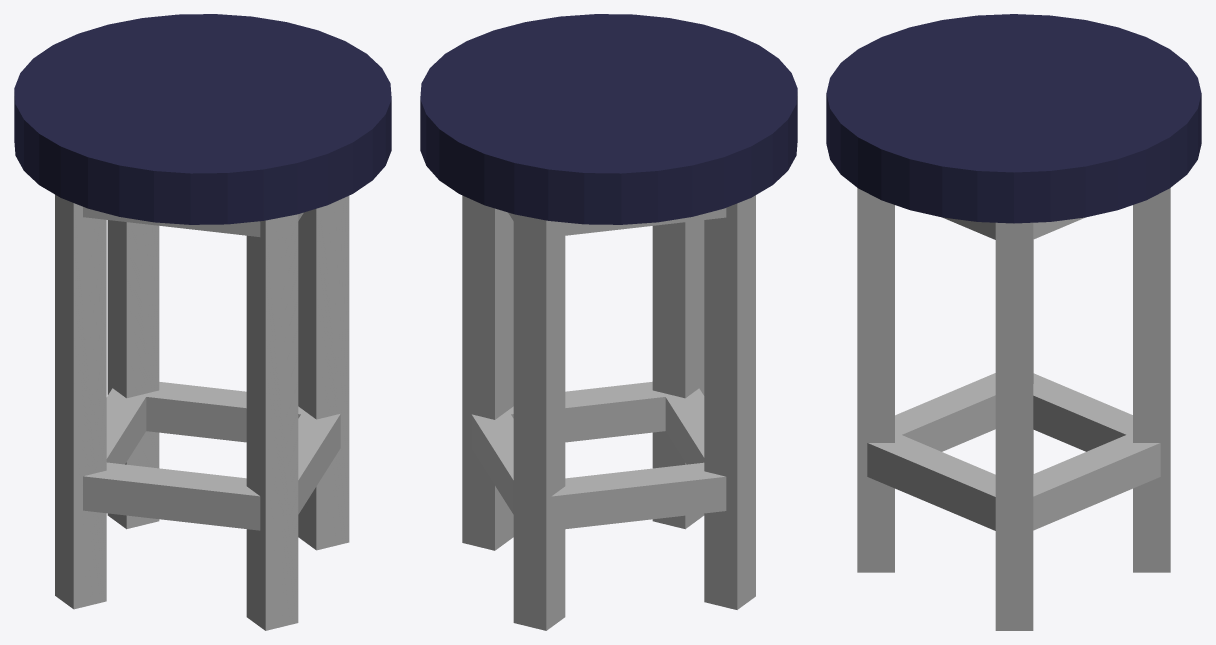
File: chair.fbx
3 renders of one model, left to right at view 1: azimuth 30°, elevation 25°; view 2: azimuth 150°, elevation 25°; view 3: azimuth 270°, elevation 25°, orthographic.
Parts seen in each view (by area): view 1: Стул; view 2: Стул; view 3: Стул.
Boxes of the visible parts, x1,y1,x2,y2 form: Стул: [14, 14, 391, 630]; Стул: [420, 14, 797, 630]; Стул: [826, 14, 1201, 630].
Size of the model in its own units: 40 by 55.47 by 40.
